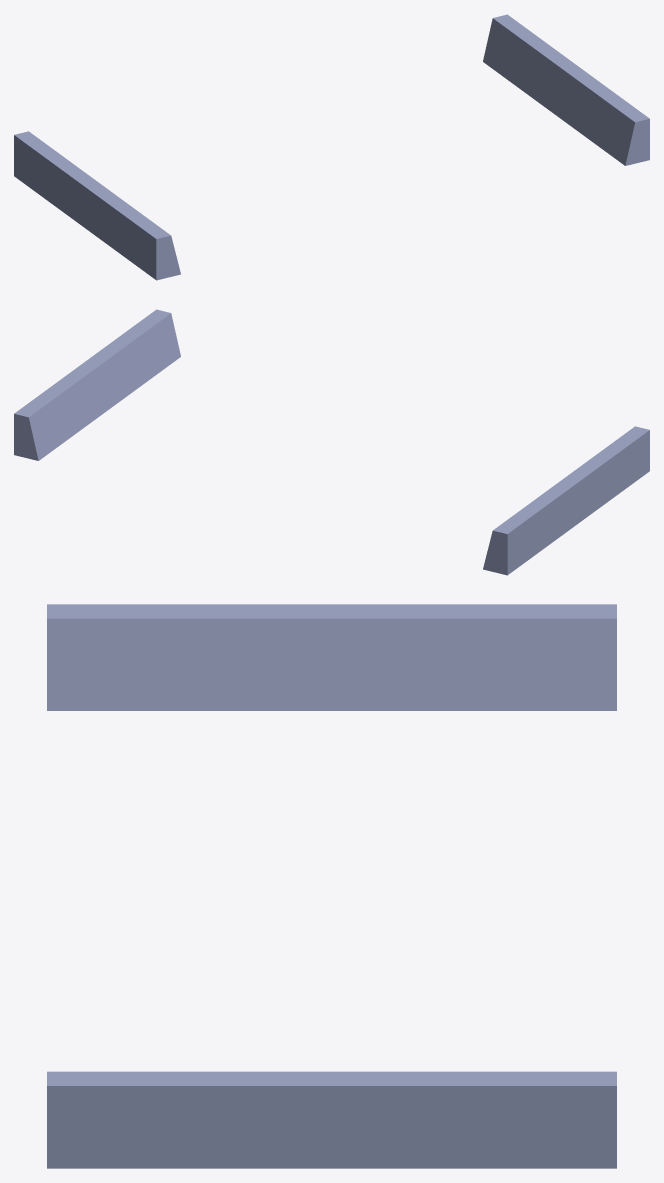
Rendered from road-straight-barrier-half.glb.
3 views of the same model, one above another, from view 1: azimuth 30°, elevation 25°; view 2: azimuth 150°, elevation 25°; view 3: azimuth 270°, elevation 25° (orthographic). The views are drawn at different scales.
Parts seen in each view (by area): view 1: road-straight-barrier-half; view 2: road-straight-barrier-half; view 3: road-straight-barrier-half.
Boxes of the visible parts, x1,y1,x2,y2 form: road-straight-barrier-half: [14, 14, 649, 280]; road-straight-barrier-half: [14, 309, 649, 575]; road-straight-barrier-half: [47, 604, 616, 1168].
Size of the model in its own units: 10 by 0.7996 by 5.
1 material, 1 textured.
